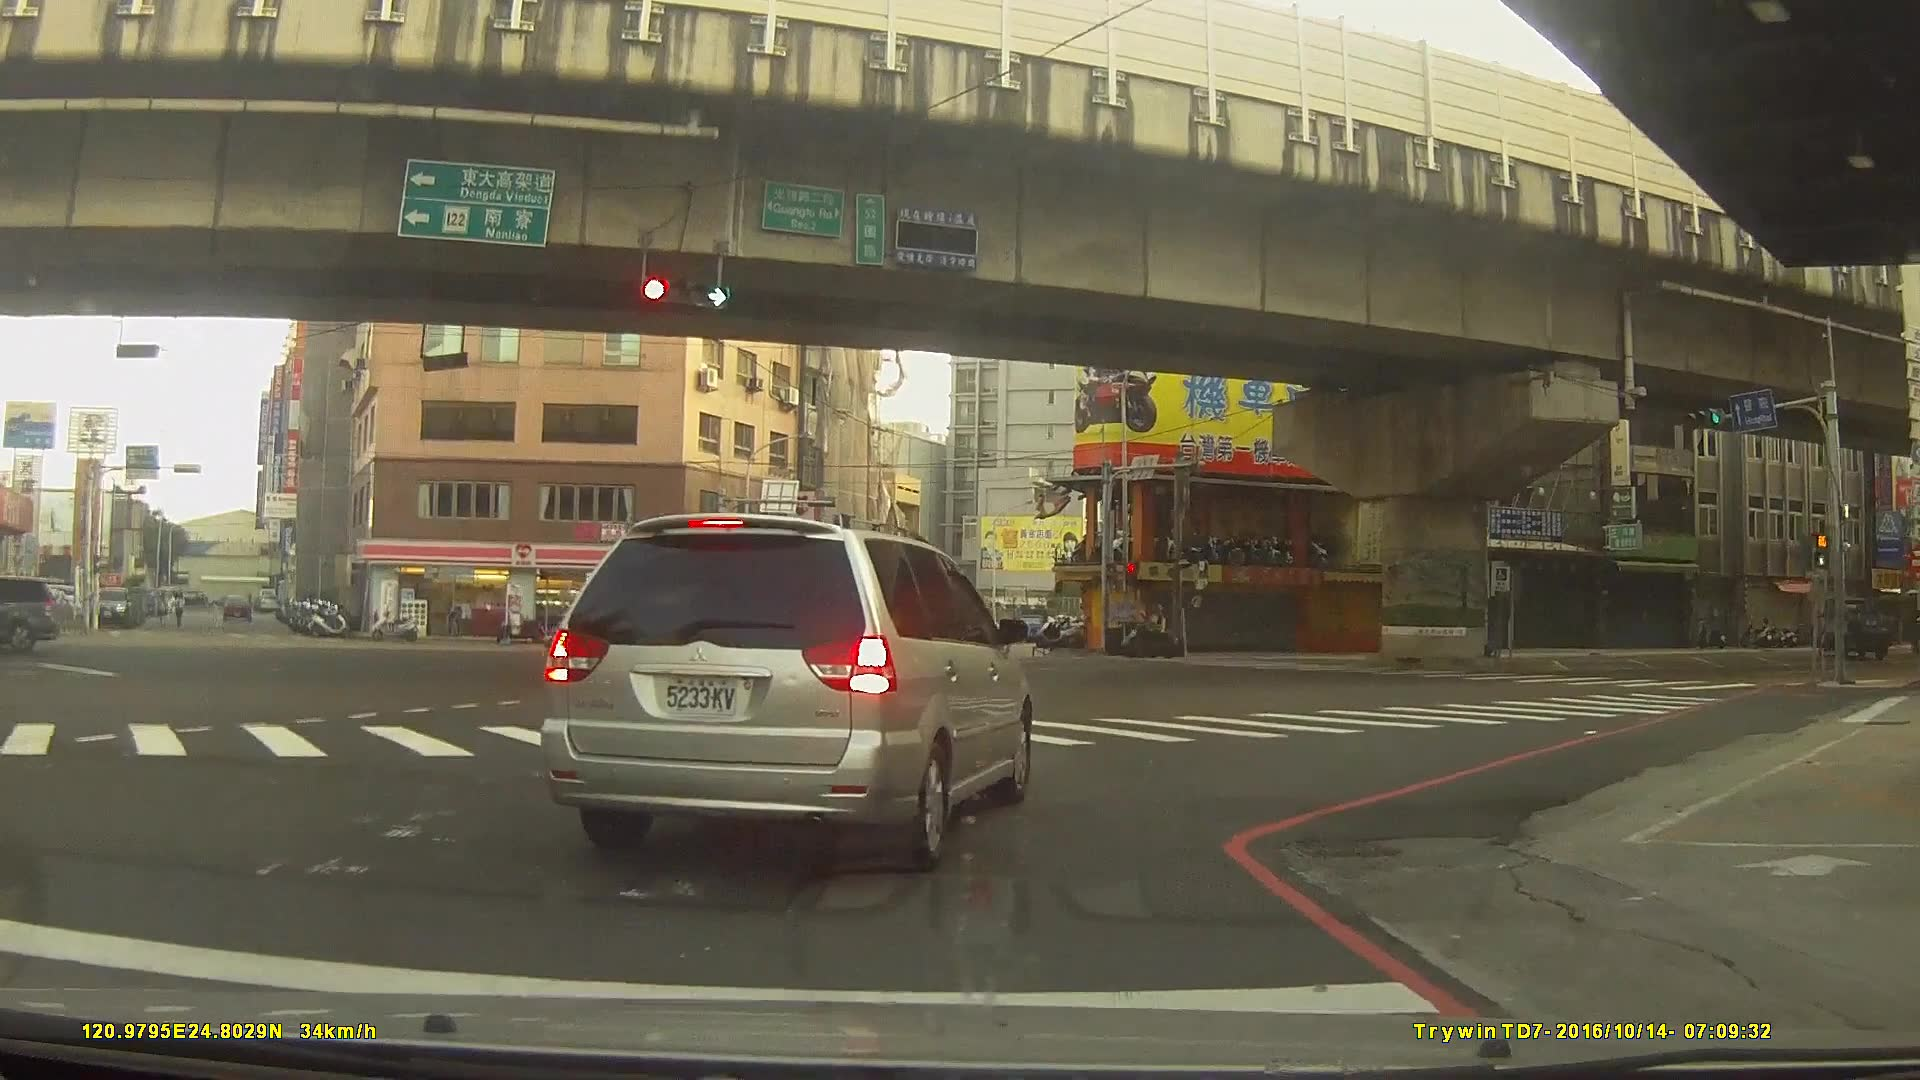rider: (1122, 602, 1180, 659)
vehicle: (537, 511, 1033, 870), (1810, 593, 1888, 659), (0, 572, 61, 654), (870, 623, 937, 662), (86, 585, 129, 630), (543, 606, 605, 633), (215, 591, 251, 622)
